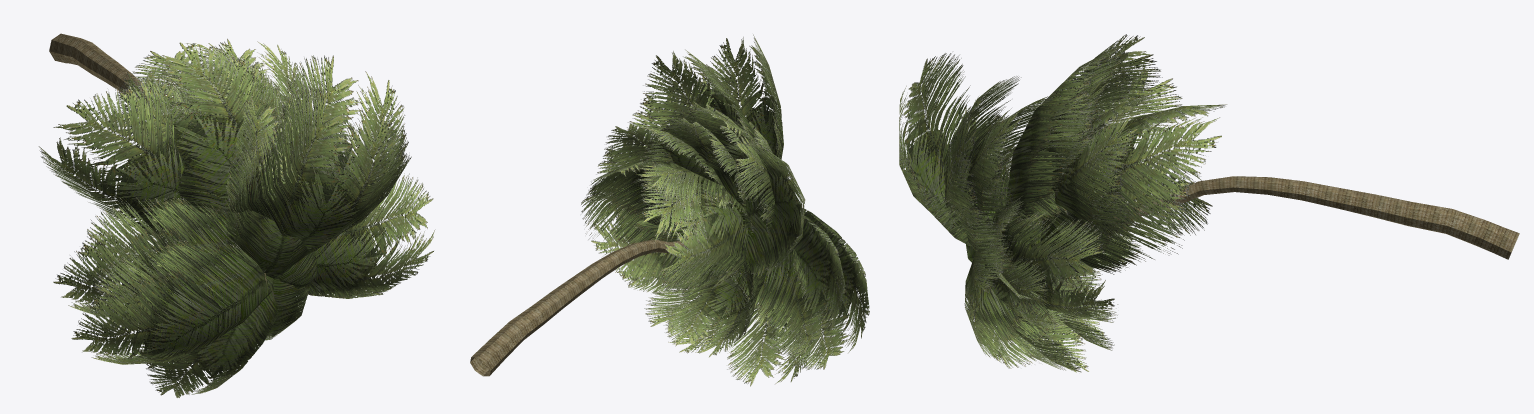
File: Palmera.obj
3 views of the same model, side by side, from view 1: azimuth 30°, elevation 25°; view 2: azimuth 150°, elevation 25°; view 3: azimuth 270°, elevation 25° (orthographic). The views are drawn at different scales.
Parts seen in each view (by area): view 1: object__6, NoName_803MeshMesh_1; view 2: object__6, NoName_803MeshMesh_1; view 3: object__6, NoName_803MeshMesh_1.
Part boxes in pixels (x1,y1,x2,y2): object__6: (38,38,435,397); NoName_803MeshMesh_1: (49,33,266,284); object__6: (581,34,869,386); NoName_803MeshMesh_1: (470,236,706,376); object__6: (899,34,1227,372); NoName_803MeshMesh_1: (1041,176,1519,259).
Bounding box in the file's own units: 2.47 × 2.48 × 3.6.
1 material, 1 textured.
